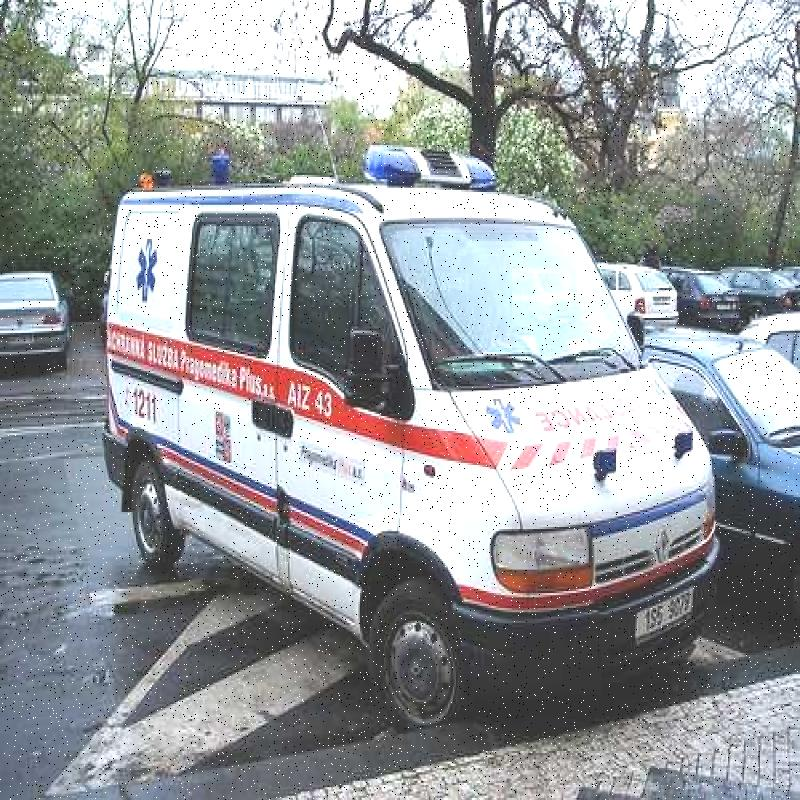AmbulanceSiren: (352, 140, 504, 204)
